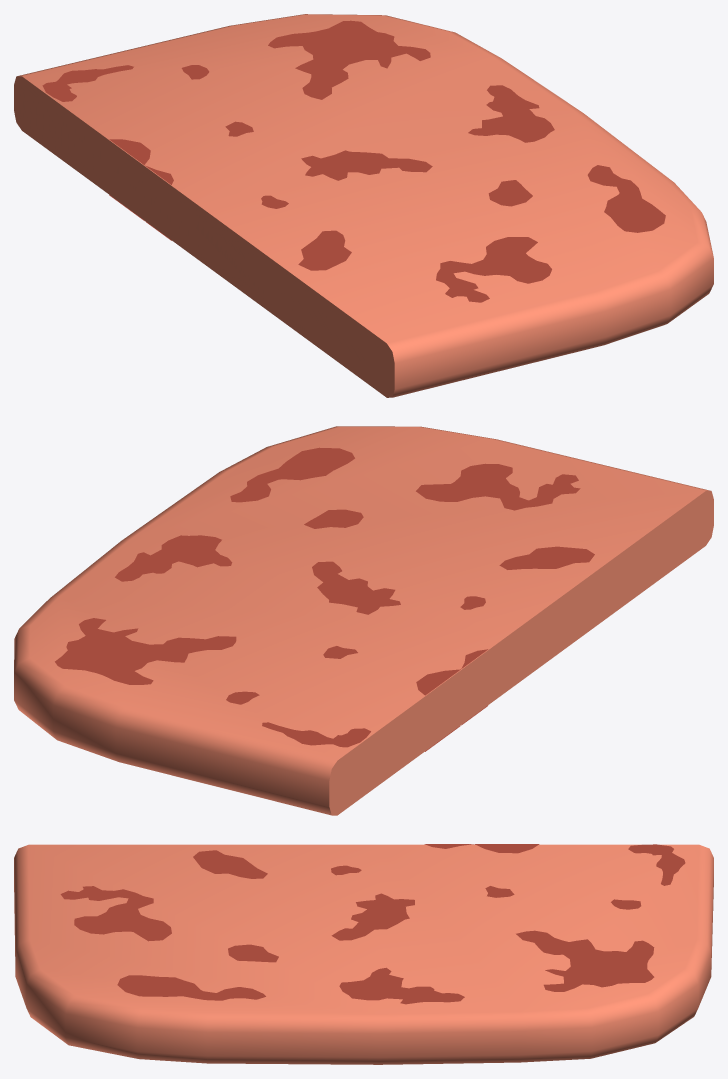
The model's file is Ham_half_Hotdog.003.fbx.
The picture shows the model from 3 angles, top to bottom: view 1: azimuth 30°, elevation 25°; view 2: azimuth 150°, elevation 25°; view 3: azimuth 270°, elevation 25°; orthographic projection. The views are drawn at different scales.
Visible parts, largest first — view 1: Ham_half_Hotdog.003; view 2: Ham_half_Hotdog.003; view 3: Ham_half_Hotdog.003.
Part boxes in pixels (box(x1,y1,x2,y2)): Ham_half_Hotdog.003: box(14, 14, 713, 397); Ham_half_Hotdog.003: box(14, 426, 713, 815); Ham_half_Hotdog.003: box(14, 844, 713, 1064).
Bounding box in the file's own units: 45.69 × 76.92 × 6.22.
